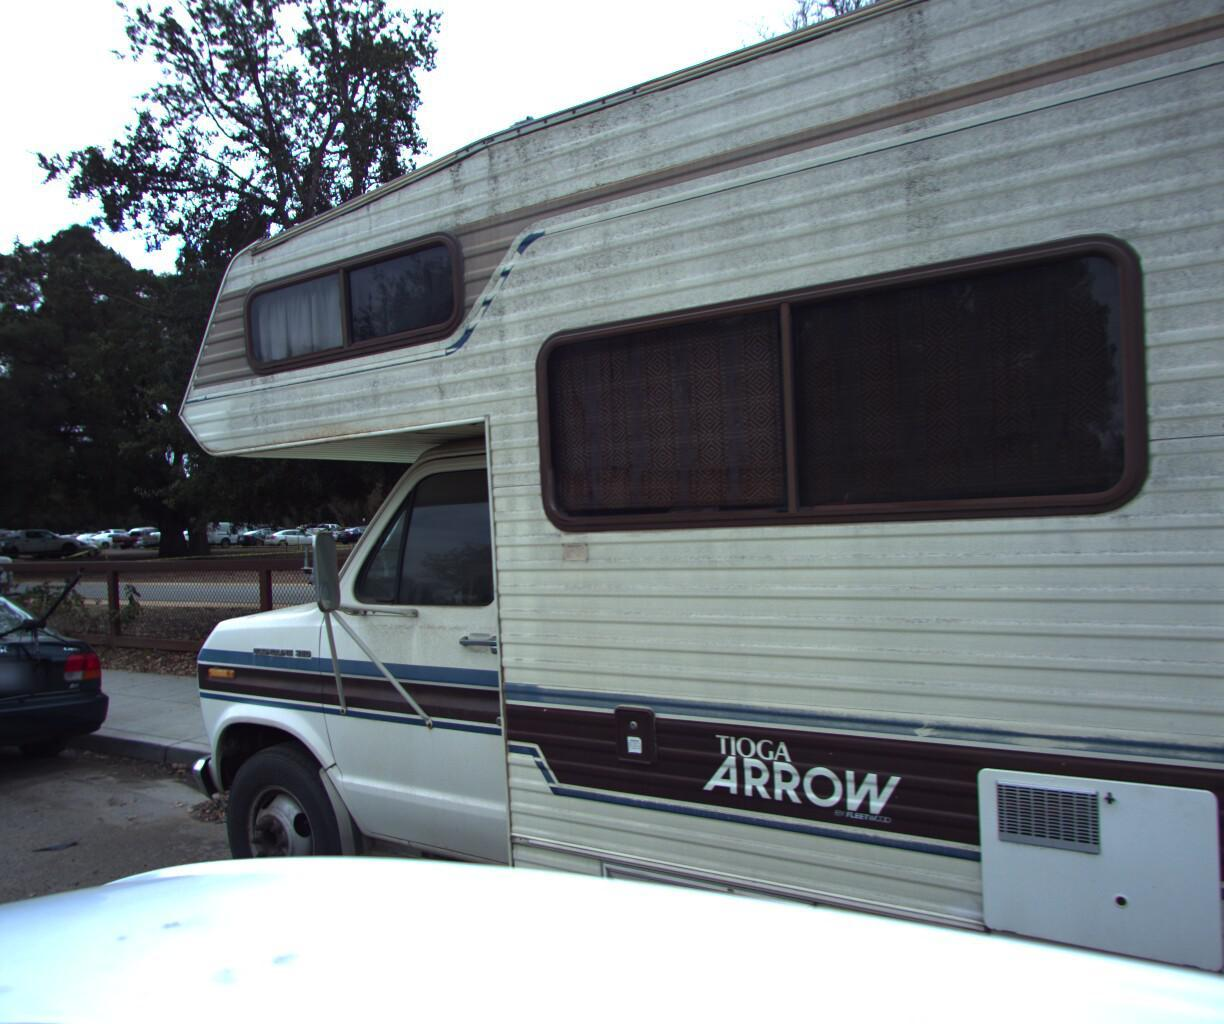car: (0, 559, 158, 879)
